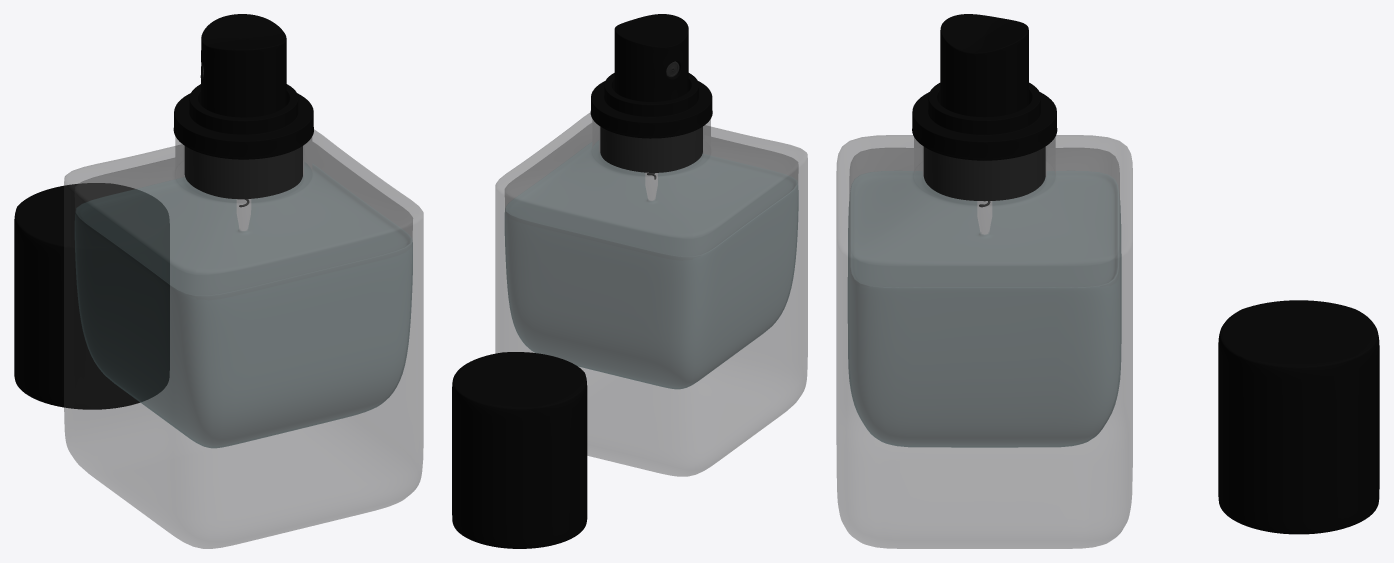
Rendered from perfume_bottle.glb.
3 views of the same model, side by side, from view 1: azimuth 30°, elevation 25°; view 2: azimuth 150°, elevation 25°; view 3: azimuth 270°, elevation 25° (orthographic). The views are drawn at different scales.
Parts seen in each view (by area): view 1: Cube.003, Cube.004, Cube.006, Cylinder.001, Cube.005; view 2: Cube.003, Cube.004, Cube.006, Cylinder.001, Cube.005; view 3: Cube.003, Cube.004, Cube.006, Cylinder.001, Cube.005.
Part boxes in pixels (x1,y1,x2,y2): Cube.003: (64,129,423,548); Cube.004: (75,163,412,447); Cube.006: (75,214,412,447); Cylinder.001: (14,183,169,409); Cube.005: (173,14,313,199); Cube.003: (495,112,807,476); Cube.004: (505,141,798,388); Cube.006: (505,185,797,388); Cylinder.001: (452,352,587,548); Cube.005: (590,14,712,172); Cube.003: (836,135,1132,548); Cube.004: (848,171,1121,447); Cube.006: (848,213,1120,446); Cylinder.001: (1218,300,1379,534); Cube.005: (912,14,1057,201).
Size of the model in its own units: 2 by 3.53 by 3.66.
